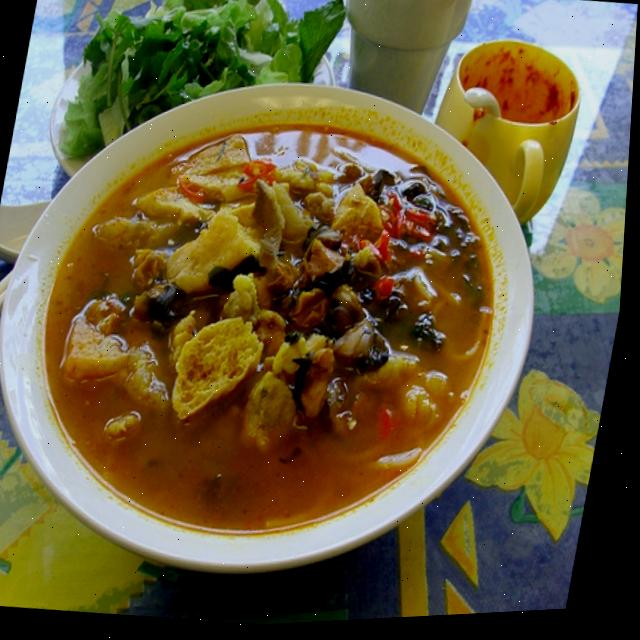面条主食: (0, 2, 599, 621)
